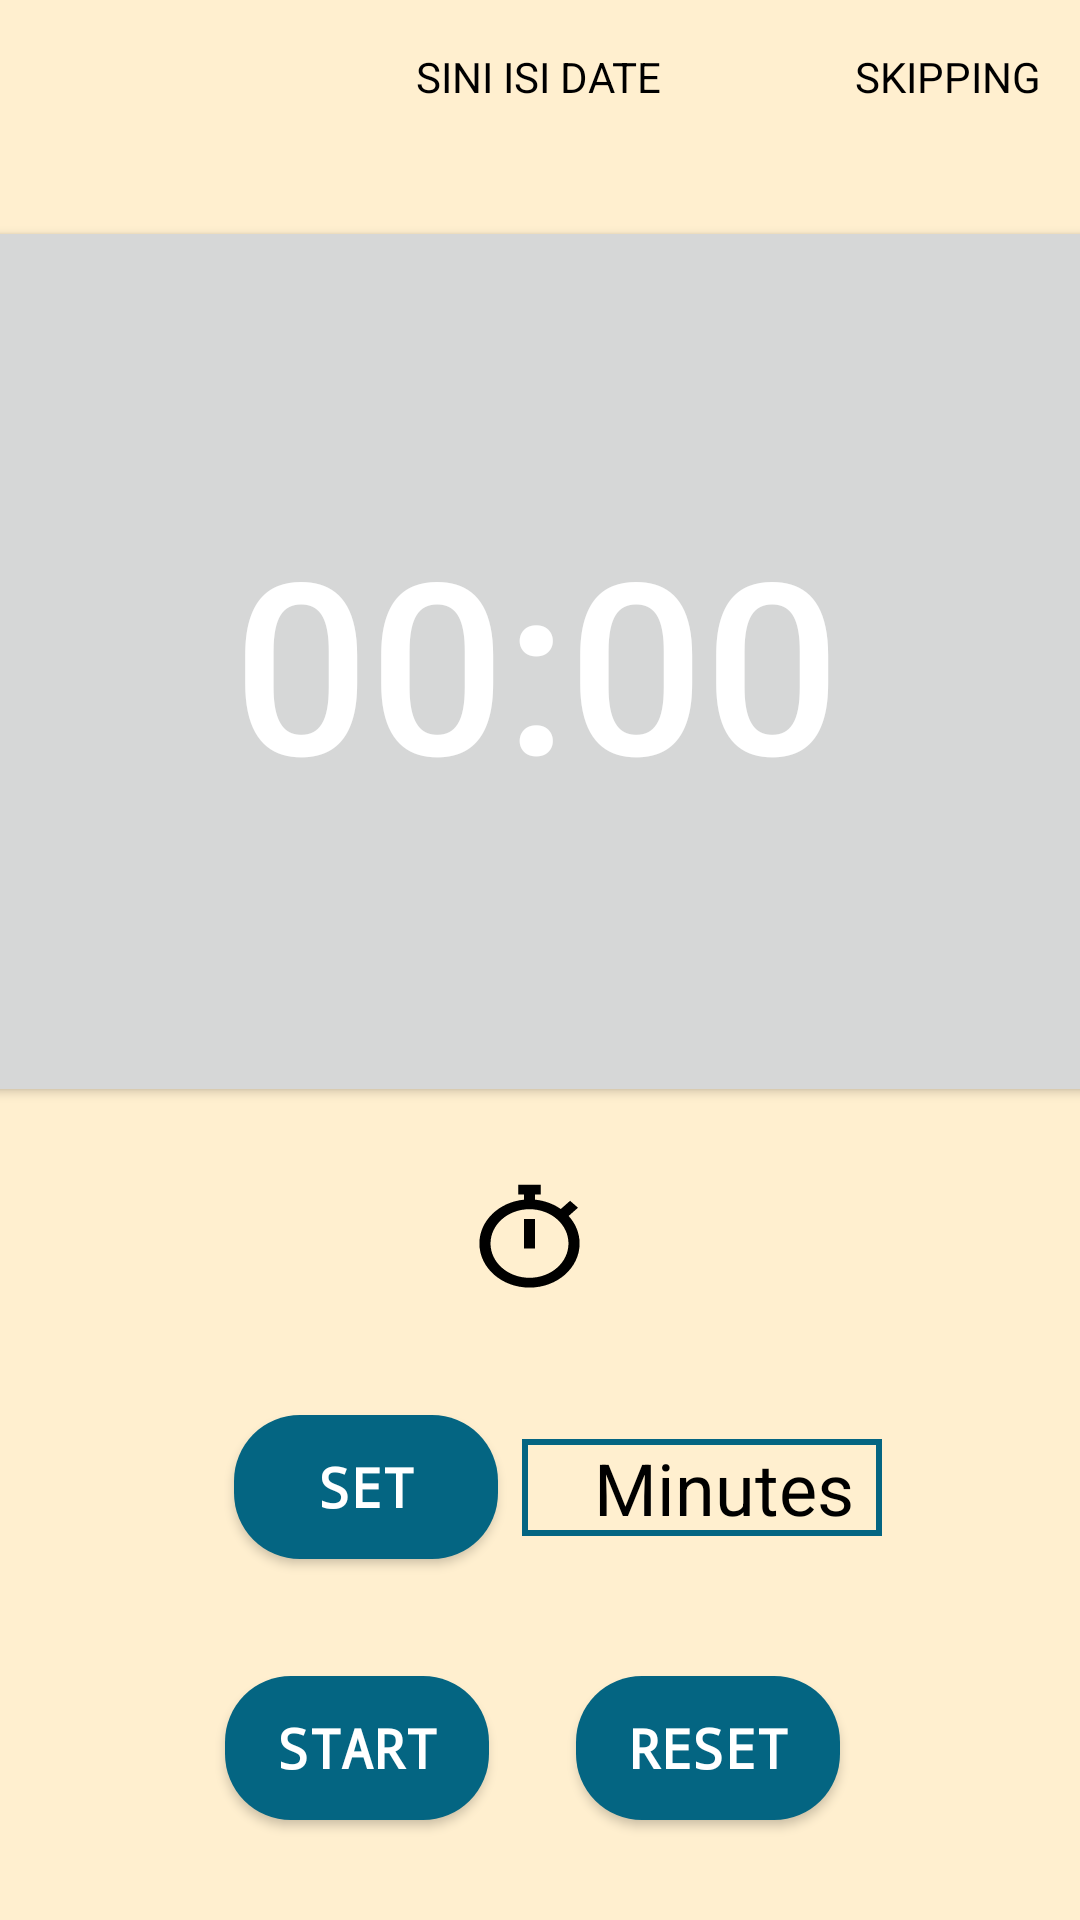

Where icons sit on this 1080*1920 app screen, as (x1, y1, x2, y2):
icontime: (479, 1184, 580, 1288)
